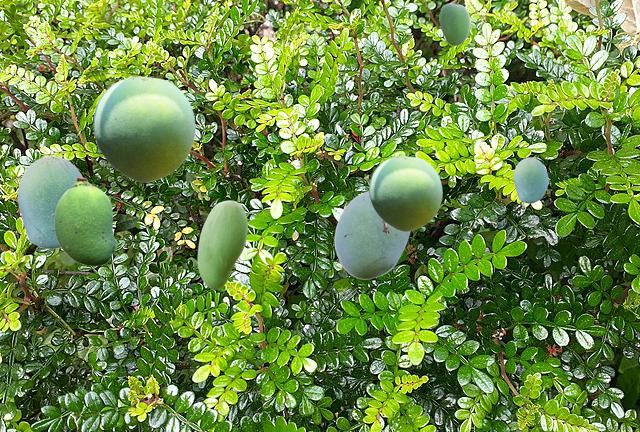green_mango: (93, 75, 194, 181), (334, 190, 410, 278), (17, 155, 83, 248), (54, 177, 116, 265), (369, 155, 441, 230), (197, 200, 246, 288), (513, 157, 547, 202), (439, 3, 469, 44)
